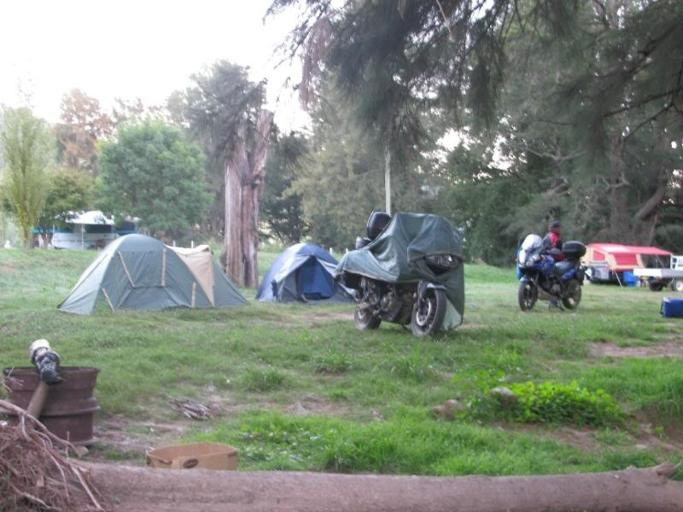non-vehicle: (340, 207, 465, 340), (513, 230, 587, 311)
